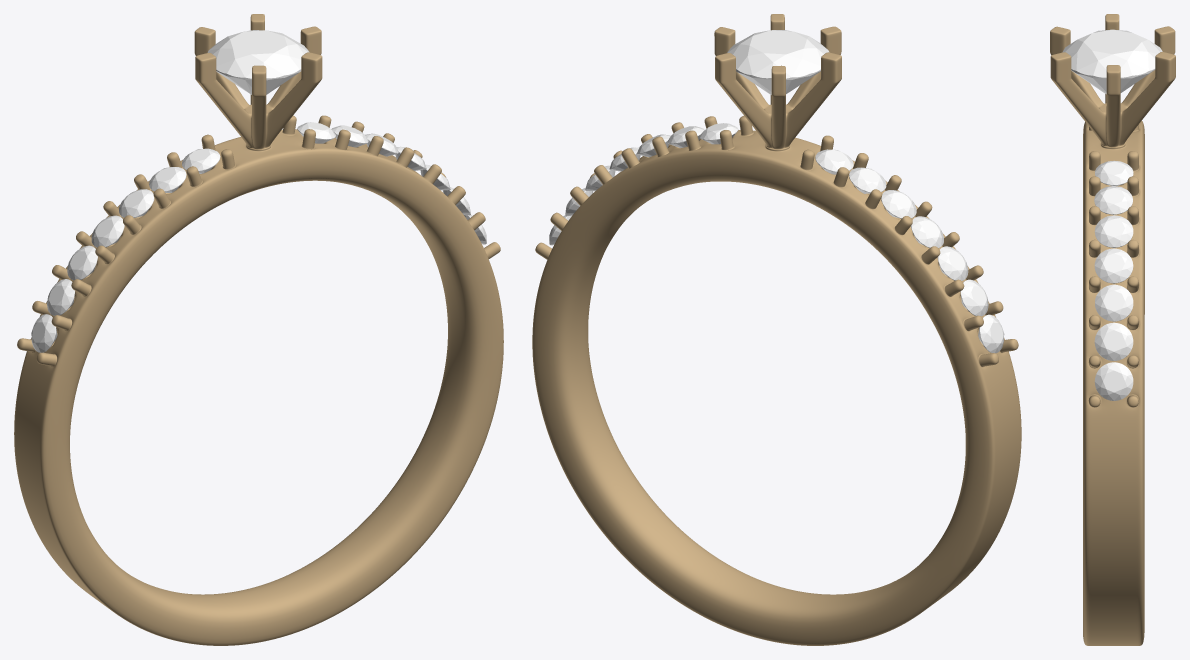
Rendered from ringGreen.glb.
3 renders of one model, left to right at view 1: azimuth 30°, elevation 25°; view 2: azimuth 150°, elevation 25°; view 3: azimuth 270°, elevation 25°, orthographic.
Parts seen in each view (by area): view 1: Round.007, Round; view 2: Round.007, Round; view 3: Round.007, Round.
Boxes of the visible parts, x1,y1,x2,y2 form: Round.007: [14, 14, 503, 645]; Round: [31, 30, 486, 352]; Round.007: [532, 14, 1021, 645]; Round: [549, 30, 1004, 353]; Round.007: [1050, 14, 1175, 645]; Round: [1062, 29, 1162, 400].
Bounding box in the file's own units: 1.98 × 2.41 × 0.474.
